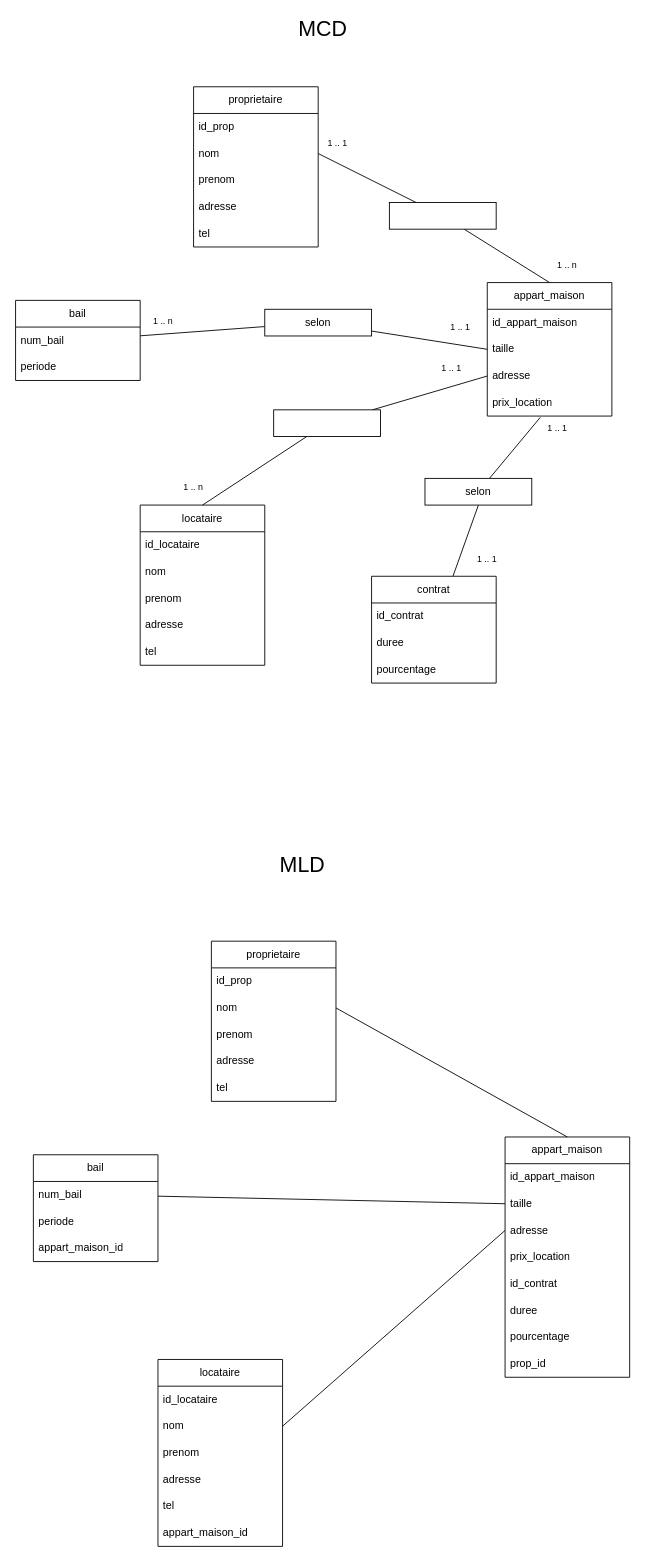
Image size: 645x1562. Some labels were removed from this diagram. Each missing label, with the centre of its shape:
"location" belongs at point (326, 423).
"remettre" belongs at point (442, 215).
